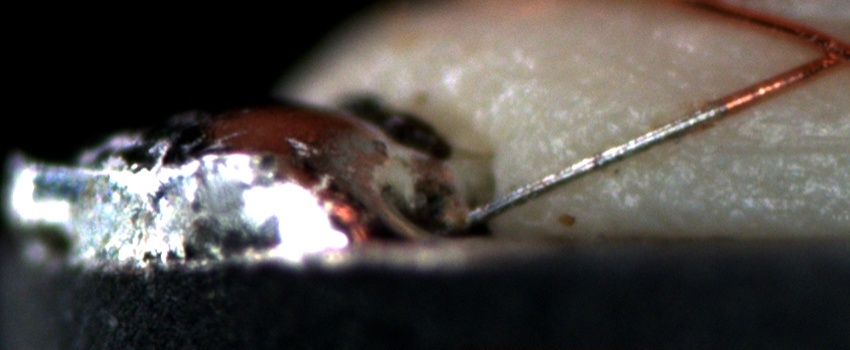CL: (797, 23, 850, 77)
DL: (643, 117, 850, 181)
TS: (464, 102, 725, 223)
